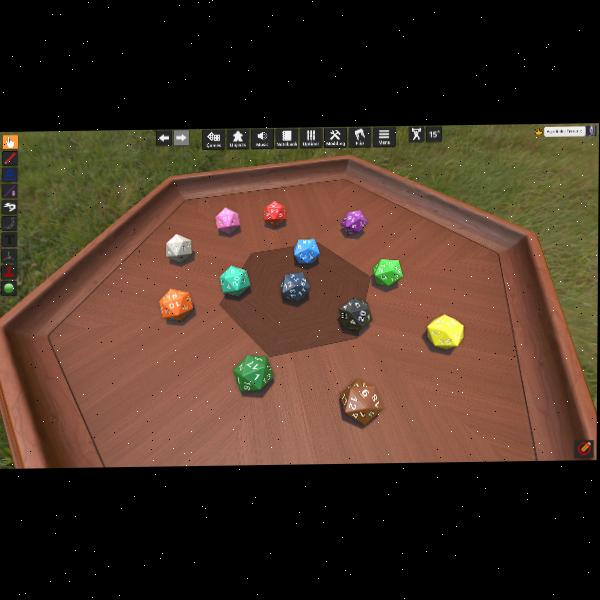d20: (341, 377, 383, 424), (234, 354, 275, 392), (425, 314, 462, 349), (160, 288, 194, 321), (338, 295, 369, 328), (219, 265, 249, 296), (281, 272, 311, 301), (166, 233, 193, 262), (372, 258, 400, 285), (293, 238, 320, 265), (215, 206, 239, 233), (341, 209, 366, 234), (265, 200, 287, 226)
